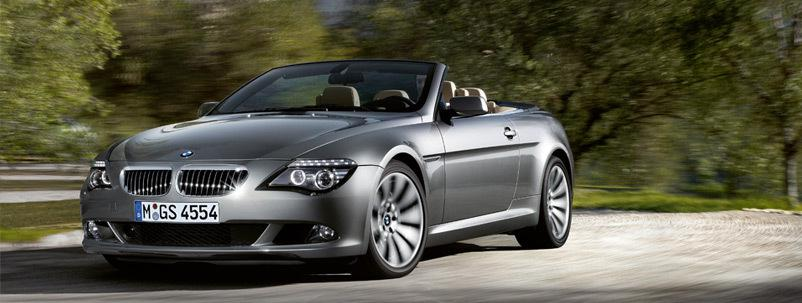Car: (57, 47, 601, 296)
